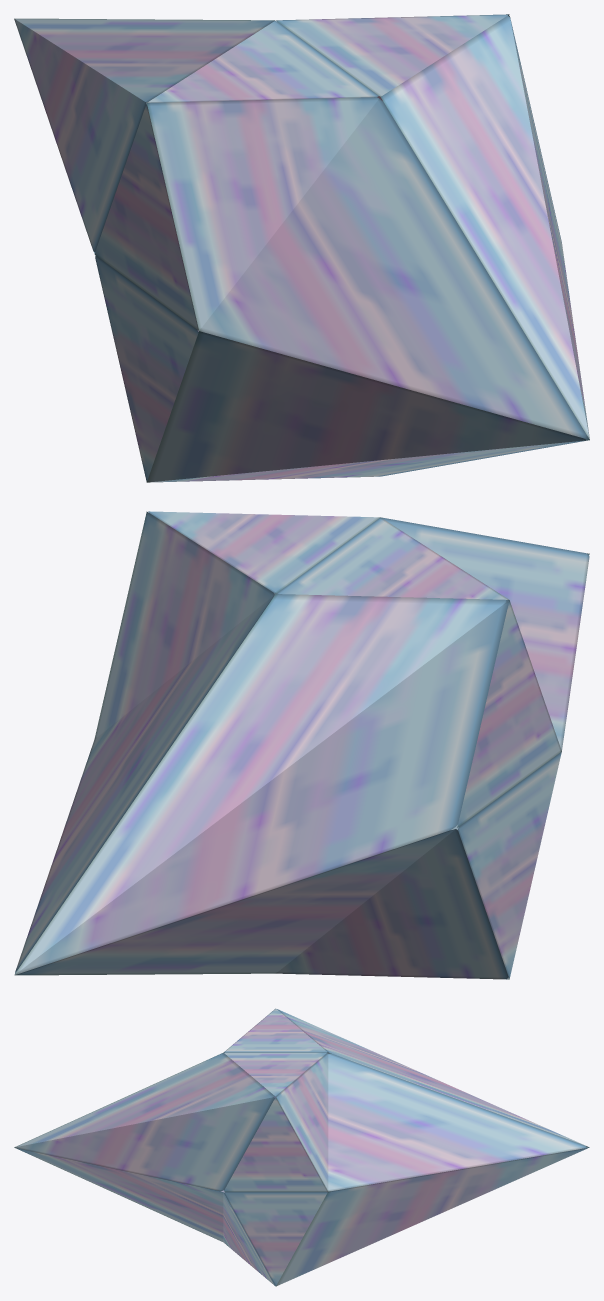
File: crystal.obj
3 views of the same model, one above another, from view 1: azimuth 30°, elevation 25°; view 2: azimuth 150°, elevation 25°; view 3: azimuth 270°, elevation 25° (orthographic). The views are drawn at different scales.
Parts seen in each view (by area): view 1: Default; view 2: Default; view 3: Default.
Part boxes in pixels (left/top/right/bottom): Default: left=14, top=14, right=589, bottom=482; Default: left=14, top=511, right=589, bottom=979; Default: left=14, top=1008, right=589, bottom=1286.
Size of the model in its own units: 4 by 4 by 11.
1 material, 1 textured.
